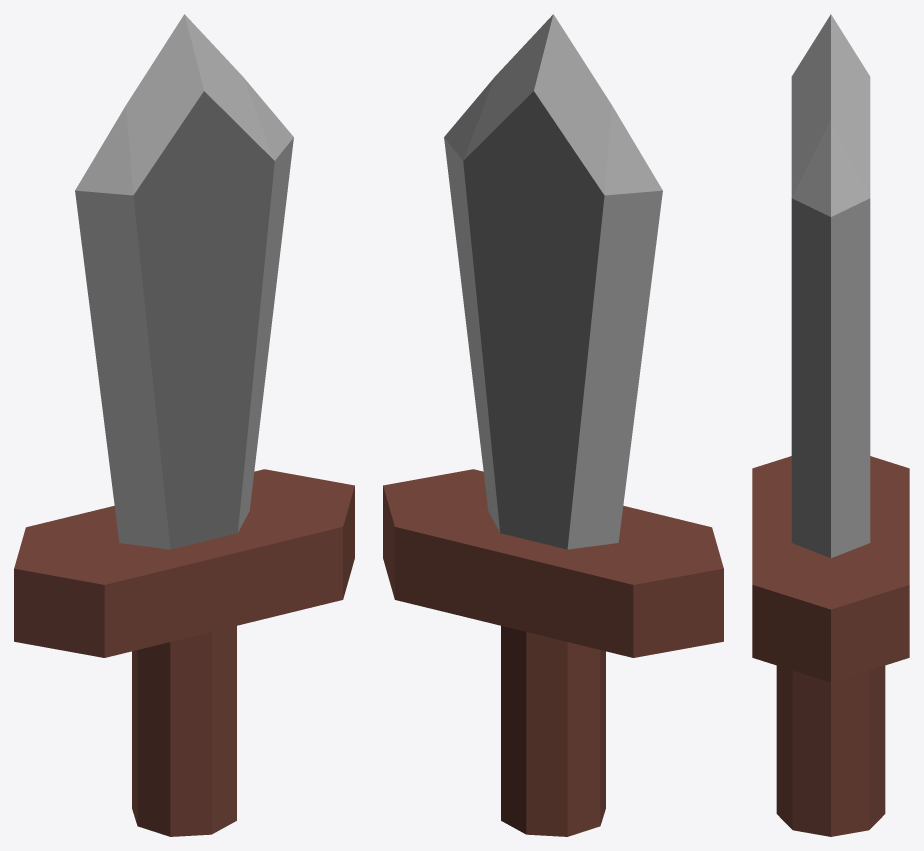
Rendered from Dagger.fbx.
3 views of the same model, side by side, from view 1: azimuth 30°, elevation 25°; view 2: azimuth 150°, elevation 25°; view 3: azimuth 270°, elevation 25° (orthographic).
Parts seen in each view (by area): view 1: Dagger; view 2: Dagger; view 3: Dagger.
Boxes of the visible parts, box(x1,y1,x2,y2) form: Dagger: box(14, 14, 354, 836); Dagger: box(383, 14, 723, 836); Dagger: box(752, 14, 909, 836).
Size of the model in its own units: 200 by 449 by 80.
